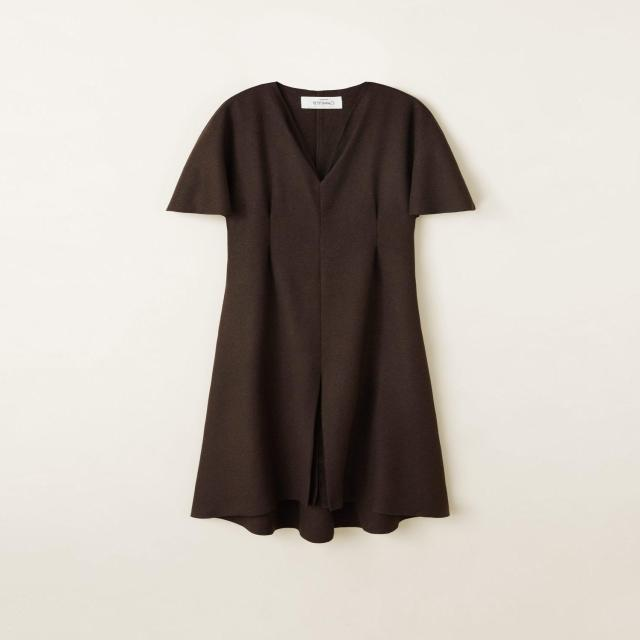Dress: (165, 78, 486, 539)
